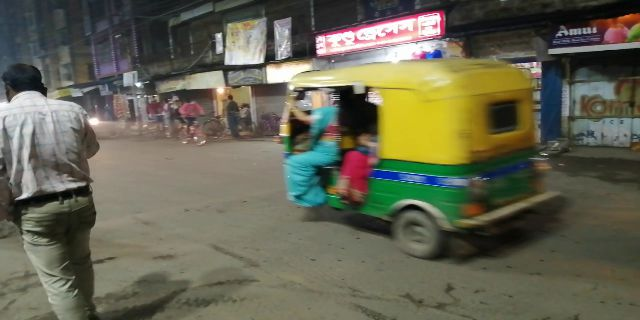Autorickshaw: (276, 59, 552, 252)
